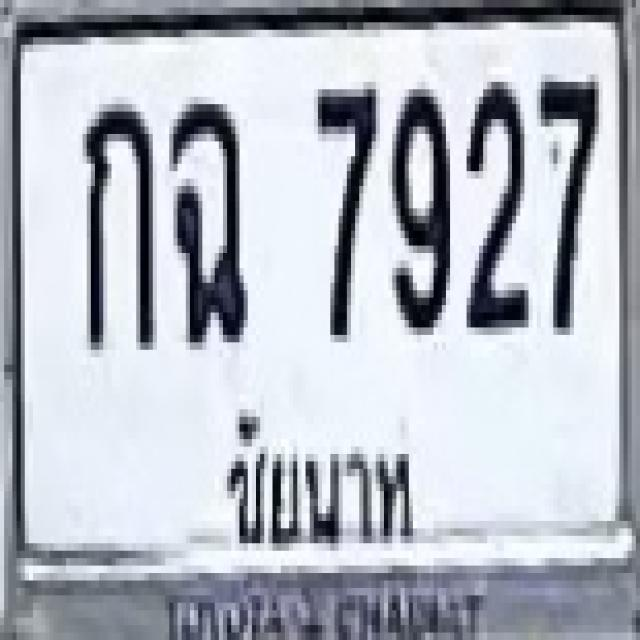-: (167, 97, 246, 342), (78, 97, 153, 342)
2: (462, 75, 524, 328)
7: (314, 82, 376, 335), (536, 75, 594, 328)
9: (388, 82, 446, 327)
CNT: (204, 394, 432, 562)
